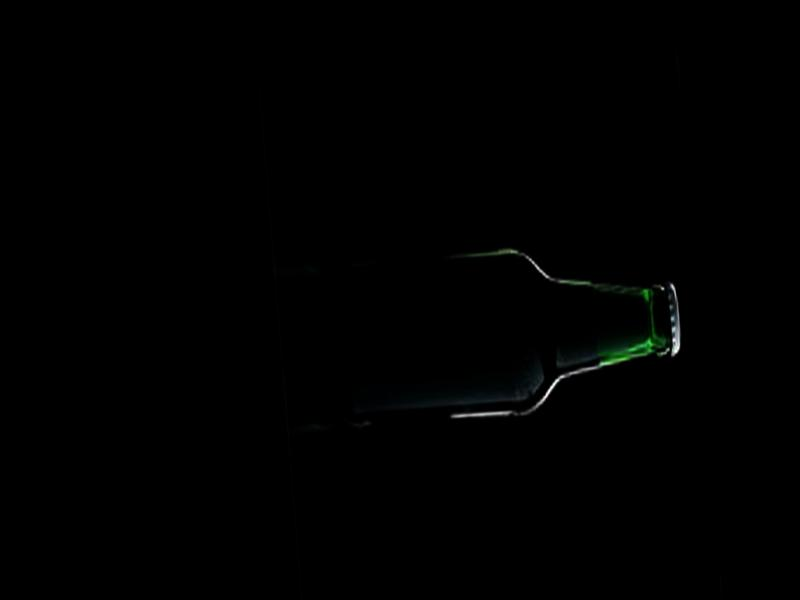Beer: (332, 234, 688, 436)
